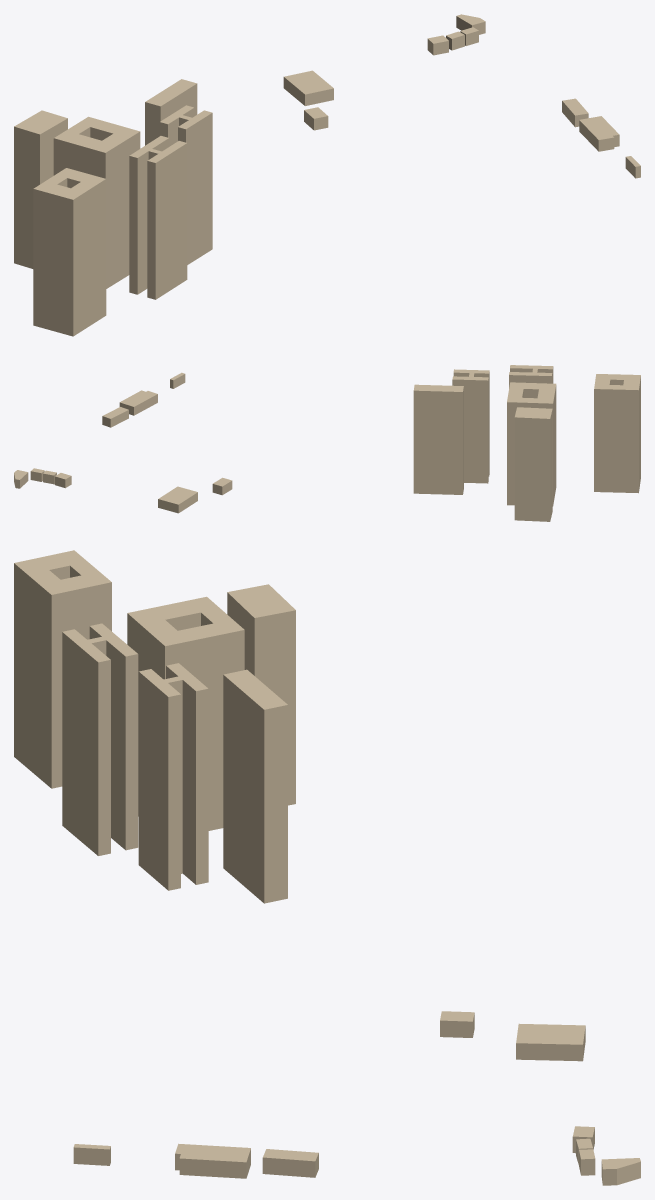
The model's file is -2_6-estimated-coarse.glb.
The picture shows the model from 3 angles, top to bottom: view 1: azimuth 30°, elevation 25°; view 2: azimuth 150°, elevation 25°; view 3: azimuth 270°, elevation 25°; orthographic projection. The views are drawn at different scales.
Size of the model in its own units: 689 by 141 by 413.
